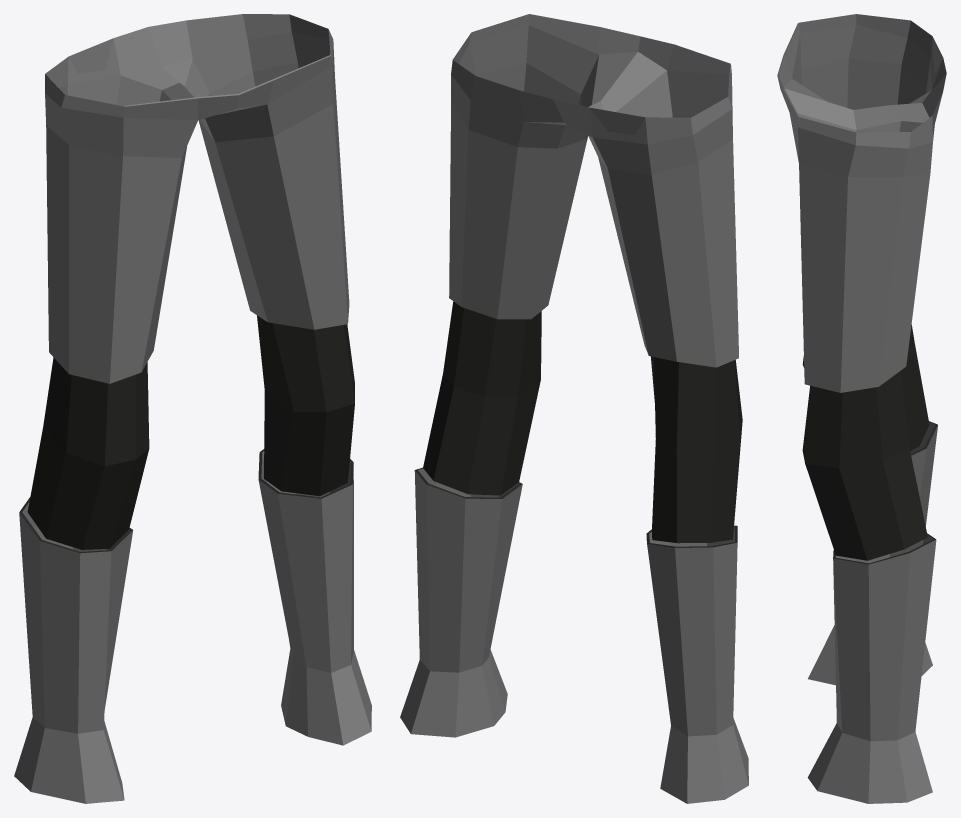
Rendered from Greave_01.fbx.
The picture shows the model from 3 angles, left to right: view 1: azimuth 30°, elevation 25°; view 2: azimuth 150°, elevation 25°; view 3: azimuth 270°, elevation 25°; orthographic projection. The views are drawn at different scales.
Parts seen in each view (by area): view 1: Greave_01; view 2: Greave_01; view 3: Greave_01.
Part boxes in pixels (x1,y1,x2,y2): Greave_01: (14, 14, 371, 803); Greave_01: (400, 14, 748, 803); Greave_01: (777, 14, 946, 803).
Size of the model in its own units: 39.5 by 77.65 by 18.17.
